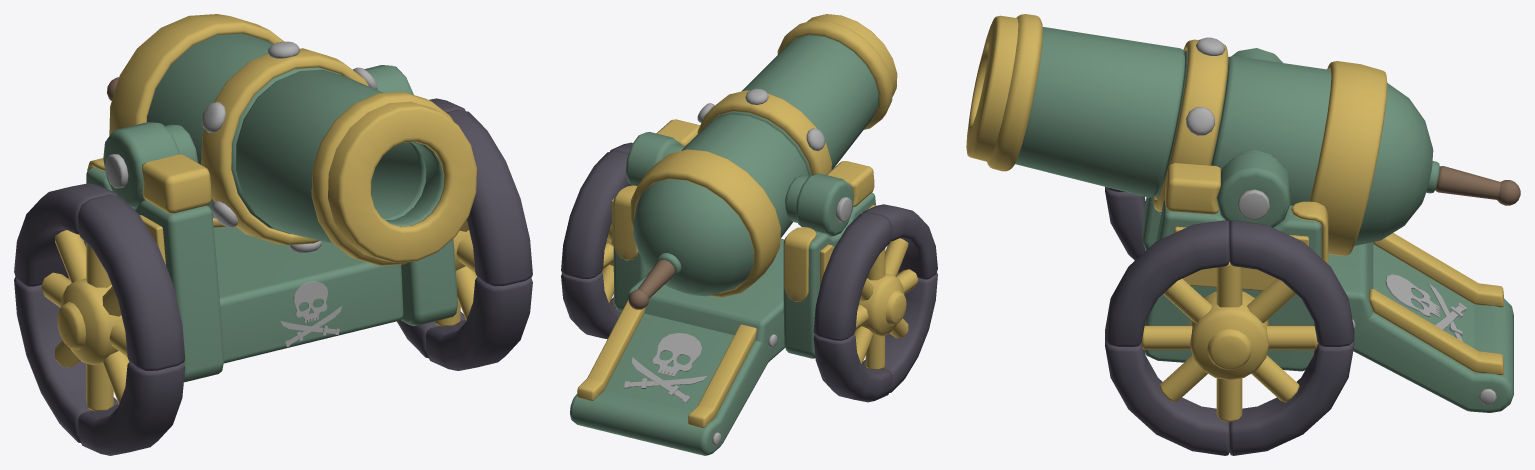
The model's file is Cannon.fbx.
3 renders of one model, left to right at view 1: azimuth 30°, elevation 25°; view 2: azimuth 150°, elevation 25°; view 3: azimuth 270°, elevation 25°, orthographic. The views are drawn at different scales.
Parts seen in each view (by area): view 1: S_Cannon, M_Cannon, D_Cannon_29, DL_Cannon_2, D_Cannon_5; view 2: S_Cannon, M_Cannon, D_Cannon_21; view 3: S_Cannon, M_Cannon, D_Cannon_21, DL_Cannon_1, D_Cannon_1.
Boxes of the visible parts, box(x1,y1,x2,y2) form: S_Cannon: box(41, 14, 476, 411); M_Cannon: box(14, 65, 532, 455); D_Cannon_29: box(293, 281, 328, 322); DL_Cannon_2: box(105, 154, 128, 188); D_Cannon_5: box(202, 102, 225, 132); S_Cannon: box(570, 14, 918, 455); M_Cannon: box(561, 132, 937, 402); D_Cannon_21: box(652, 333, 702, 376); S_Cannon: box(966, 14, 1520, 422); M_Cannon: box(1105, 48, 1354, 455); D_Cannon_21: box(1385, 274, 1439, 317); DL_Cannon_1: box(1237, 189, 1269, 219); D_Cannon_1: box(1186, 107, 1214, 135).
Bounding box in the file's own units: 587 × 521 × 742.
